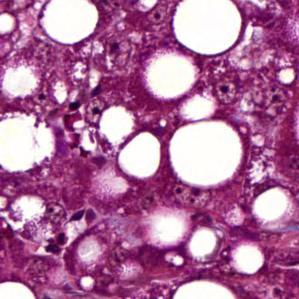steatosis: (171, 123, 247, 188), (117, 133, 166, 179)
